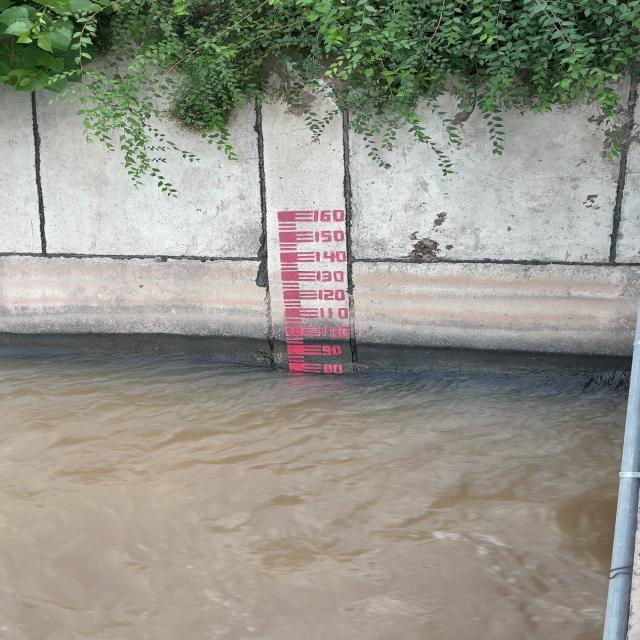ruler: (269, 206, 356, 380)
value: (310, 207, 350, 224), (314, 230, 351, 246), (314, 250, 352, 264), (314, 287, 349, 302), (317, 325, 353, 339), (314, 306, 352, 319), (316, 271, 351, 285), (319, 345, 347, 357), (323, 362, 346, 376)
